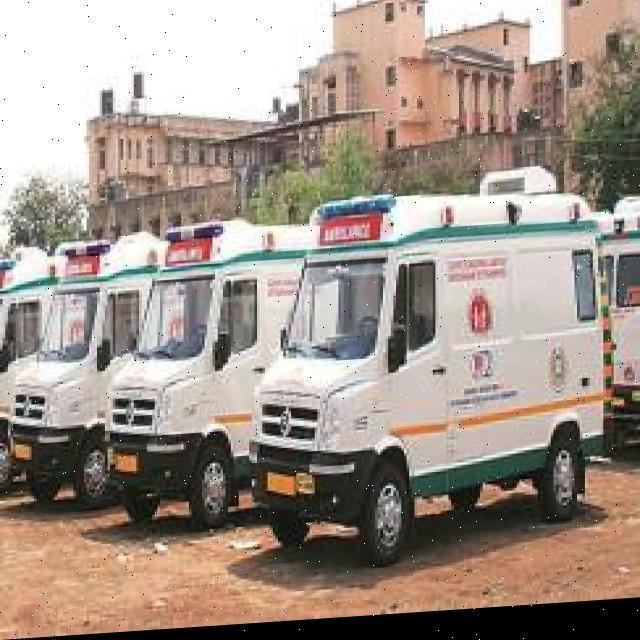Ambulance: (0, 164, 637, 593), (0, 418, 637, 637)
